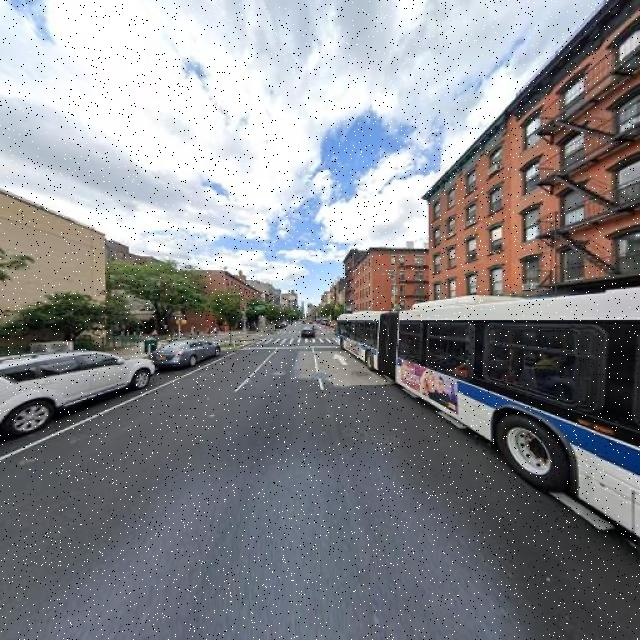Building: (517, 1, 640, 374), (429, 114, 511, 353), (1, 200, 112, 364)
